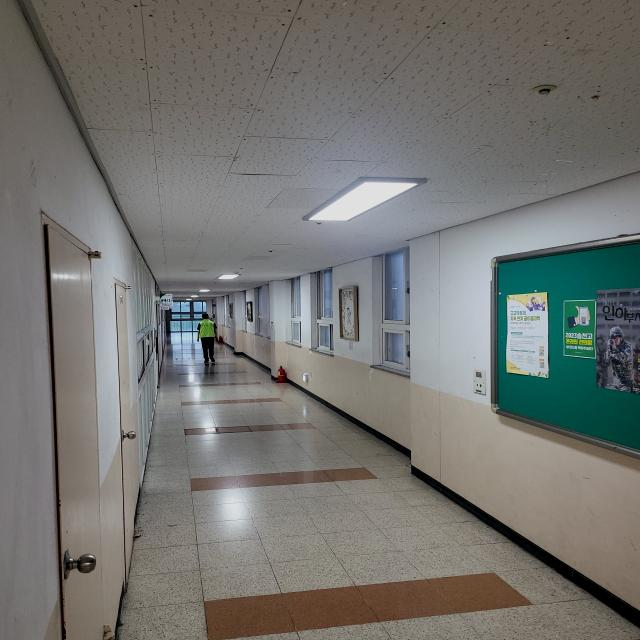weston_spy: (194, 318, 220, 342)
